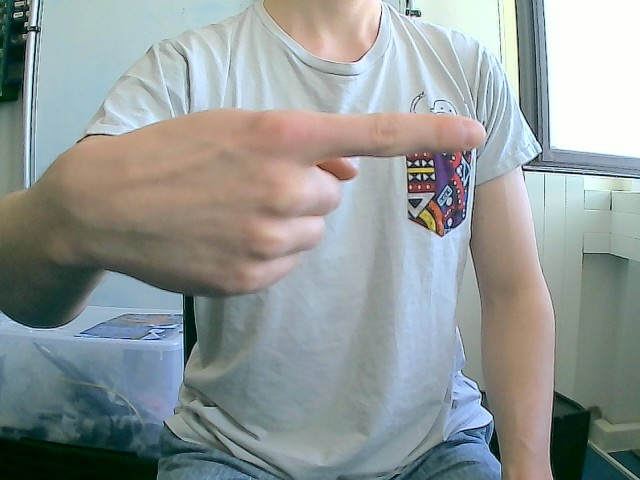left: (57, 106, 487, 300)
